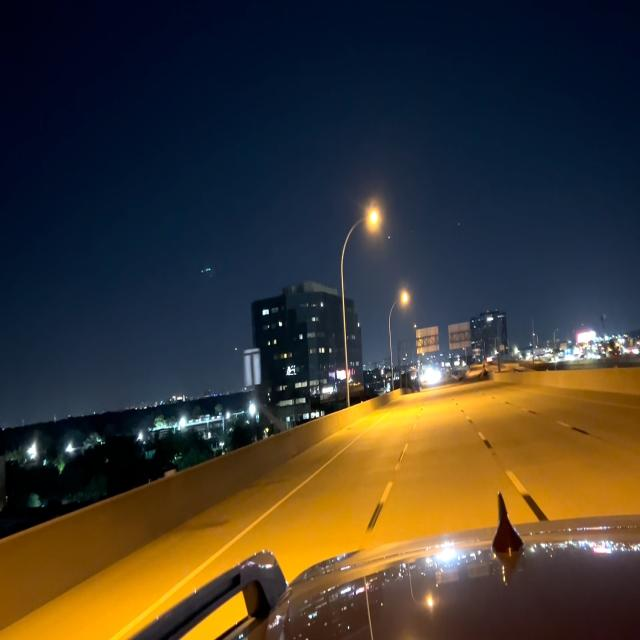back-of-sign: (244, 344, 262, 391), (415, 324, 440, 356), (448, 322, 472, 352)
